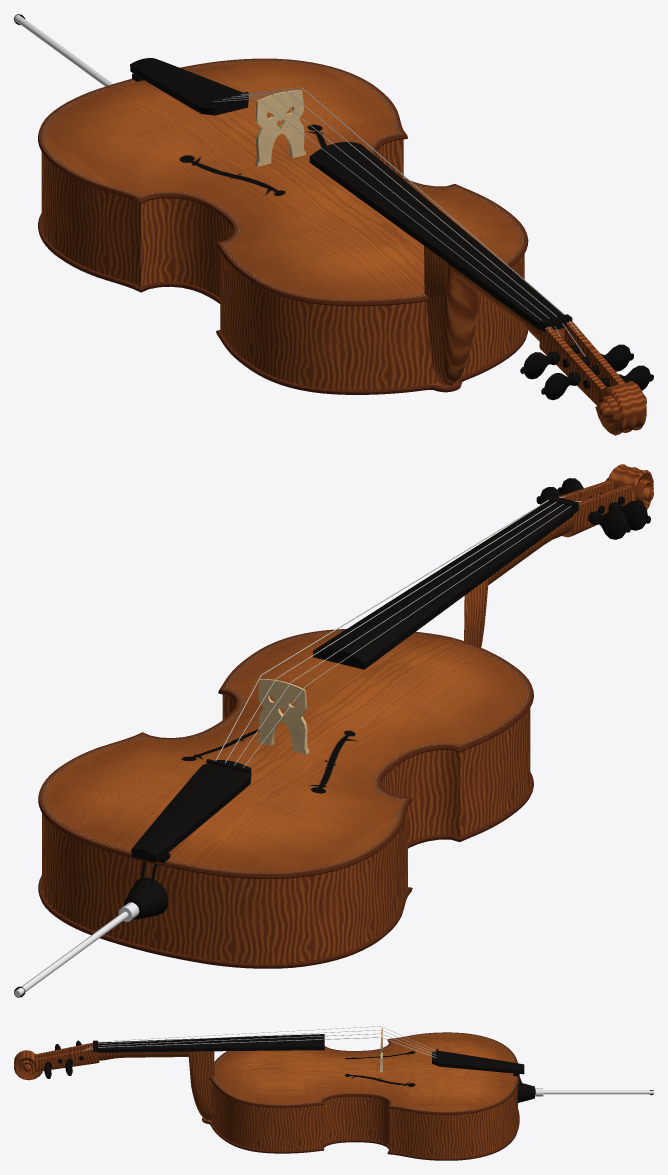
The model's file is cello.glb.
3 renders of one model, top to bottom at view 1: azimuth 30°, elevation 25°; view 2: azimuth 150°, elevation 25°; view 3: azimuth 270°, elevation 25°, orthographic. The views are drawn at different scales.
Parts seen in each view (by area): view 1: cello_varnish_plates, cello_varnish_maple, cello_ebony, cello_bridge_maple, cello_strings, cello_silver; view 2: cello_varnish_plates, cello_varnish_maple, cello_ebony, cello_bridge_maple, cello_strings, cello_silver; view 3: cello_varnish_plates, cello_varnish_maple, cello_ebony, cello_strings, cello_silver.
Part boxes in pixels (x1,y1,x2,y2): cello_varnish_plates: (38,58,528,394); cello_varnish_maple: (41,139,646,435); cello_ebony: (14,14,653,400); cello_bridge_maple: (255,90,305,166); cello_strings: (213,87,585,356); cello_silver: (14,15,112,86); cello_varnish_plates: (38,629,533,968); cello_varnish_maple: (42,464,653,963); cello_ebony: (14,478,650,997); cello_bridge_maple: (257,679,309,754); cello_strings: (215,496,580,767); cello_silver: (14,902,139,996); cello_varnish_plates: (202,1032,519,1160); cello_varnish_maple: (14,1042,517,1158); cello_ebony: (44,1034,653,1102); cello_strings: (83,1026,436,1057); cello_silver: (535,1088,653,1096).
Bounding box in the file's own units: 0.4652 × 0.2577 × 1.56.
6 materials, 3 textured.
